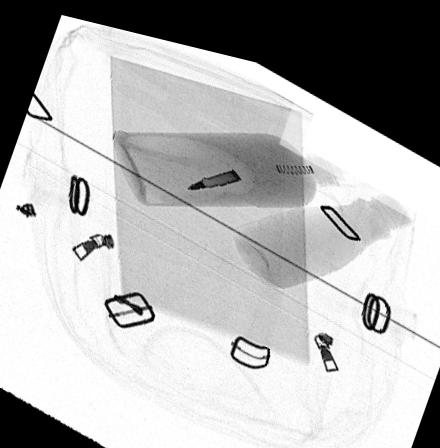Bullet: (186, 157, 242, 181)
